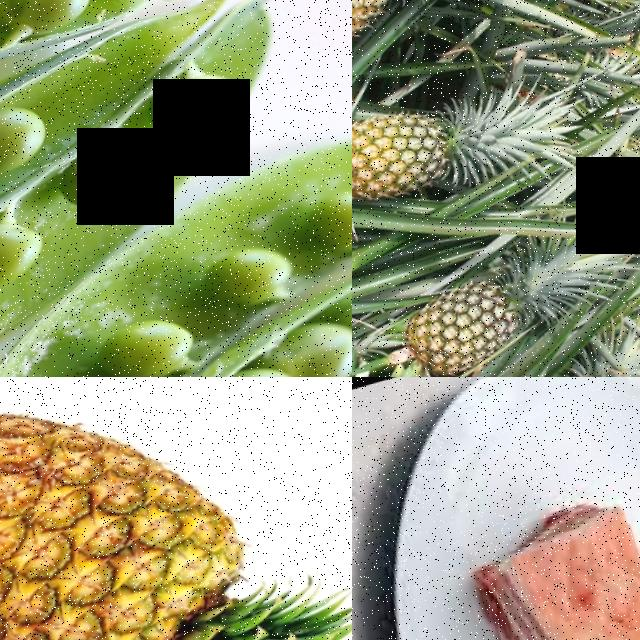peas: (64, 299, 352, 377), (0, 94, 74, 241)
pineapple: (0, 377, 310, 640), (382, 265, 552, 377), (352, 89, 489, 220), (352, 0, 428, 66)
pork belly: (462, 493, 640, 640)
